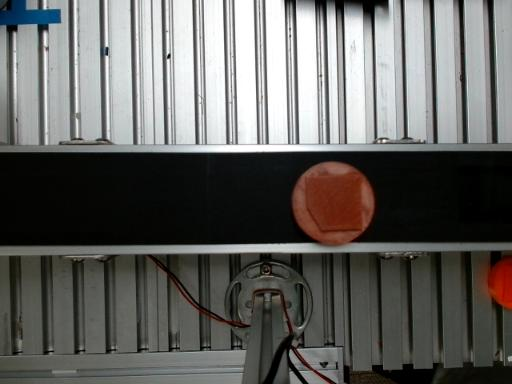Brown_Waper: (292, 162, 373, 244)
Not_Square: (305, 174, 364, 233)
